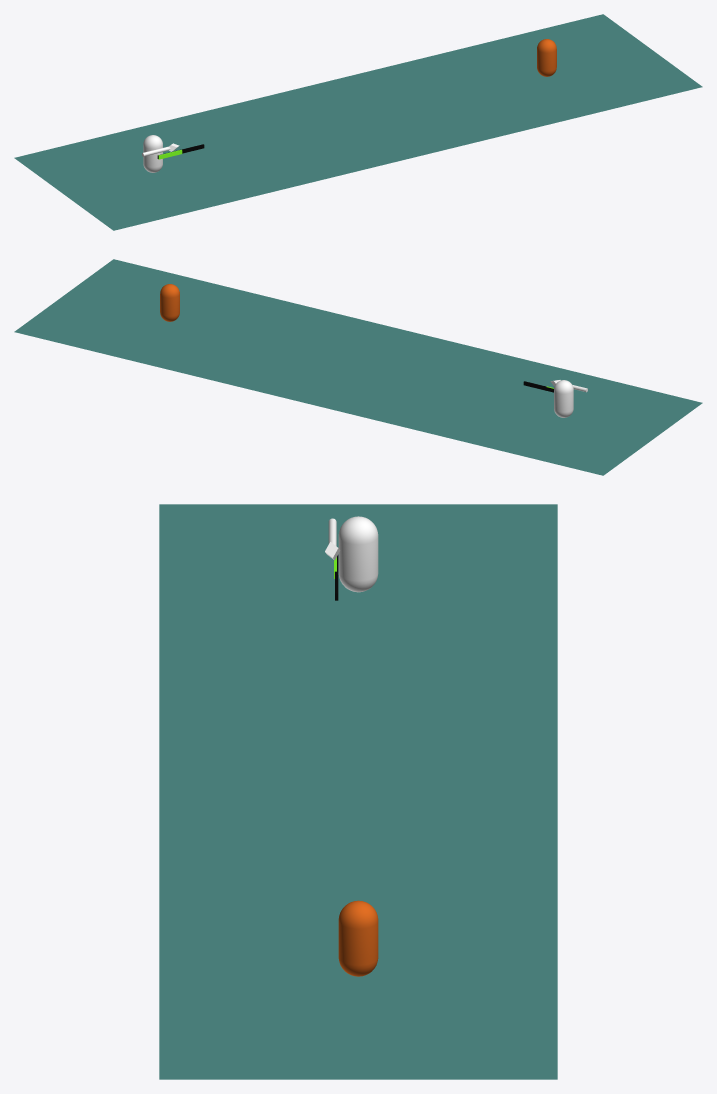
The model's file is BowShooting.glb.
The picture shows the model from 3 angles, top to bottom: view 1: azimuth 30°, elevation 25°; view 2: azimuth 150°, elevation 25°; view 3: azimuth 270°, elevation 25°; orthographic projection. The views are drawn at different scales.
Visible parts, largest first — view 1: Plane, Capsule (1), Capsule; view 2: Plane, Capsule (1), Capsule; view 3: Plane, Capsule (1), Capsule.
Part boxes in pixels (bbox=[...]): Plane: bbox=[14, 14, 702, 230]; Capsule (1): bbox=[537, 39, 556, 76]; Capsule: bbox=[143, 135, 162, 172]; Plane: bbox=[14, 259, 702, 475]; Capsule (1): bbox=[160, 284, 179, 321]; Capsule: bbox=[554, 380, 573, 417]; Plane: bbox=[159, 504, 557, 1079]; Capsule (1): bbox=[338, 900, 378, 976]; Capsule: bbox=[338, 516, 378, 592].
Size of the model in its own units: 34.16 by 2.03 by 10.
